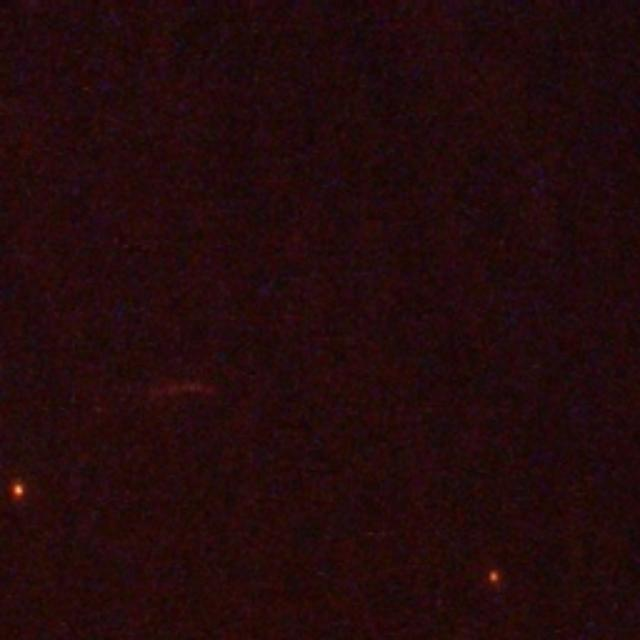microbeads: (10, 480, 26, 498), (488, 568, 502, 584)
